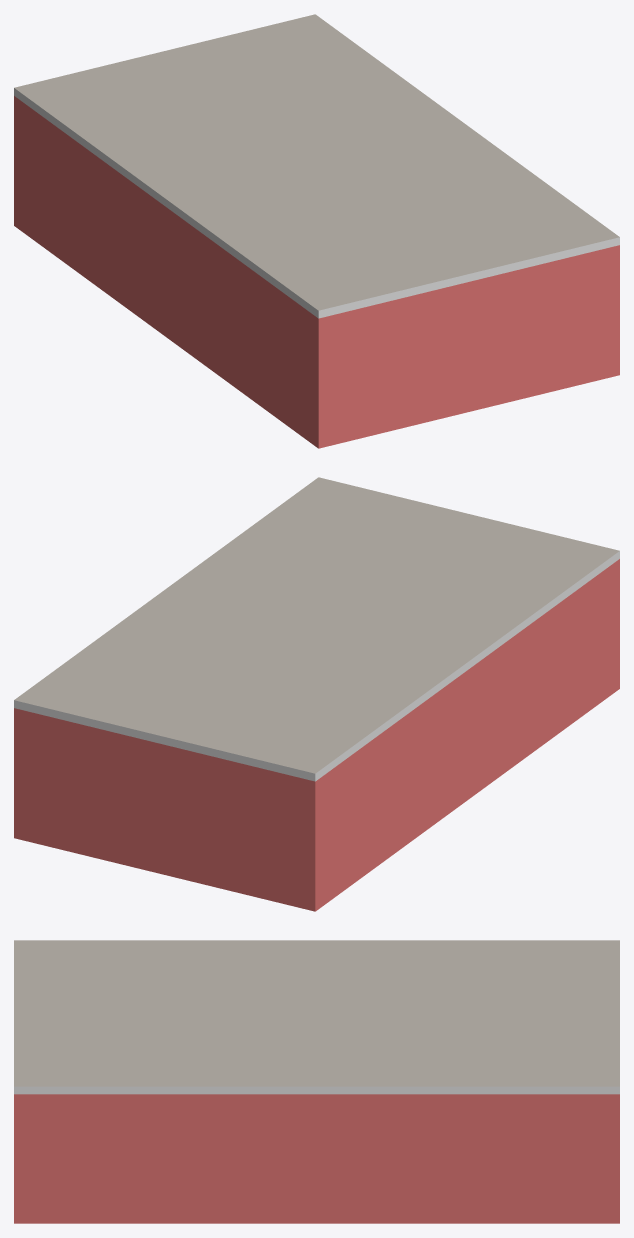
File: ForeStorey.fbx
3 renders of one model, top to bottom at view 1: azimuth 30°, elevation 25°; view 2: azimuth 150°, elevation 25°; view 3: azimuth 270°, elevation 25°, orthographic.
Visible parts, largest first — view 1: ForeStorey; view 2: ForeStorey; view 3: ForeStorey.
Part boxes in pixels (x1,y1,x2,y2): ForeStorey: (14, 14, 619, 448); ForeStorey: (14, 477, 619, 911); ForeStorey: (14, 940, 619, 1223).
Bounding box in the file's own units: 1600 × 700 × 2800.
